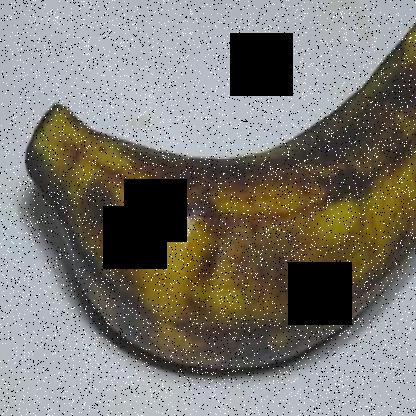overripe: (21, 0, 415, 385)
